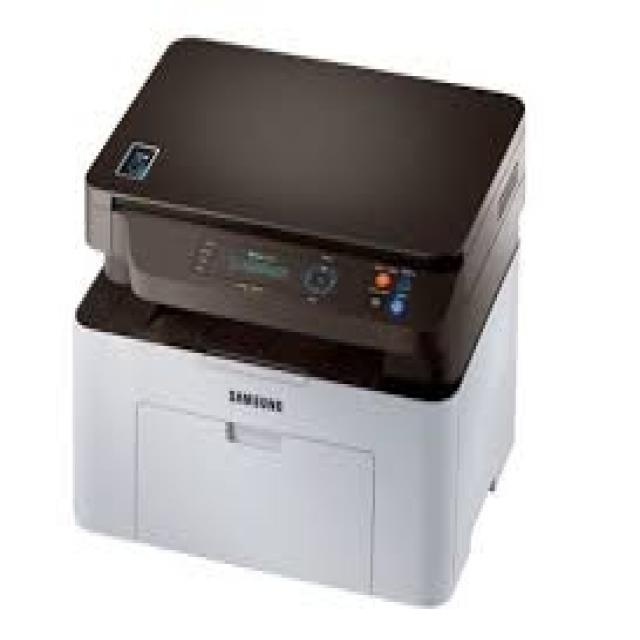printer: (60, 24, 534, 612)
